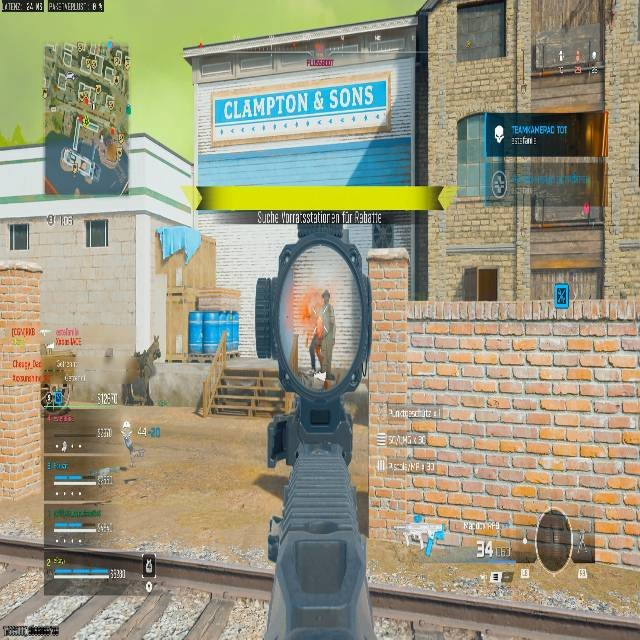head: (320, 288, 330, 303)
player: (304, 287, 335, 371)
